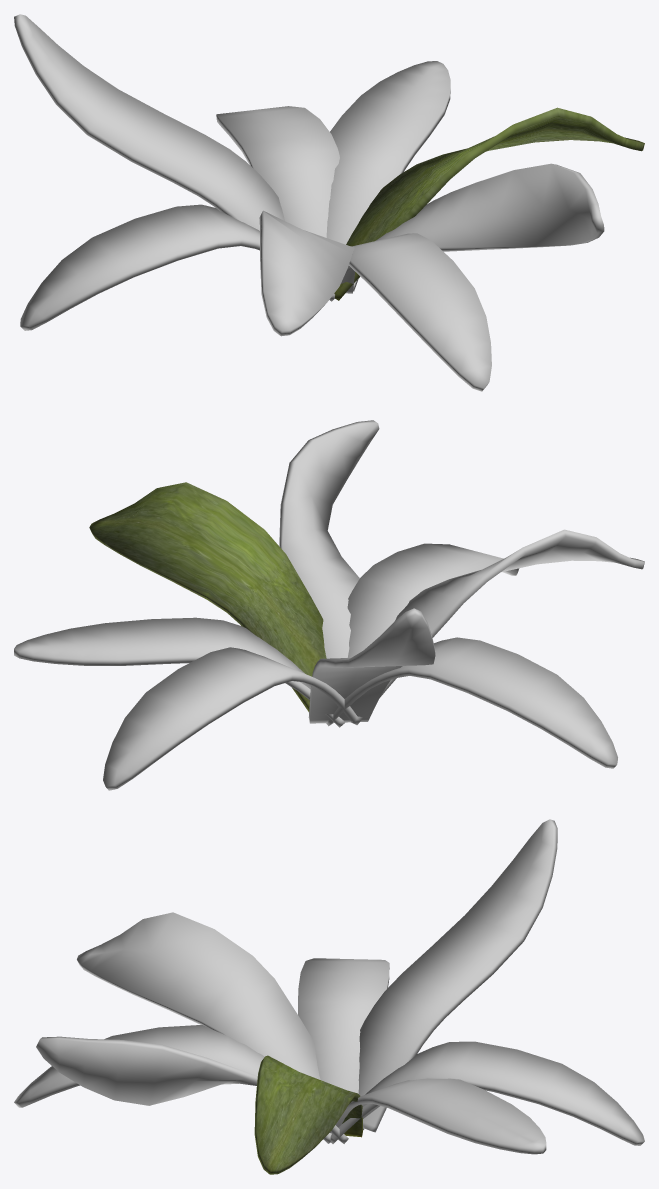
Rendered from calyx5_1000.dae.
The picture shows the model from 3 angles, top to bottom: view 1: azimuth 30°, elevation 25°; view 2: azimuth 150°, elevation 25°; view 3: azimuth 270°, elevation 25°; orthographic projection. The views are drawn at different scales.
Visible parts, largest first — view 1: calyx2, calyx5, calyx1, calyx3_001, calyx3, calyx3_002, calyx4_001, calyx4; view 2: calyx4_001, calyx3_002, calyx5, calyx3, calyx1, calyx3_001, calyx2, calyx4; view 3: calyx4, calyx2, calyx3_002, calyx5, calyx3, calyx4_001, calyx1, calyx3_001.
Boxes of the visible parts, x1=… form: calyx2: x1=14, y1=14, x2=284, y2=230; calyx5: x1=346, y1=163, x2=604, y2=272; calyx1: x1=326, y1=61, x2=450, y2=291; calyx3_001: x1=348, y1=233, x2=491, y2=391; calyx3: x1=20, y1=204, x2=334, y2=330; calyx3_002: x1=216, y1=106, x2=339, y2=237; calyx4_001: x1=334, y1=107, x2=644, y2=300; calyx4: x1=259, y1=210, x2=354, y2=336; calyx4_001: x1=89, y1=482, x2=326, y2=711; calyx3_002: x1=103, y1=647, x2=357, y2=790; calyx5: x1=279, y1=420, x2=379, y2=658; calyx3: x1=326, y1=637, x2=617, y2=768; calyx1: x1=14, y1=617, x2=344, y2=727; calyx3_001: x1=347, y1=543, x2=519, y2=657; calyx2: x1=308, y1=608, x2=435, y2=723; calyx4: x1=351, y1=529, x2=644, y2=724; calyx4: x1=77, y1=912, x2=320, y2=1079; calyx2: x1=358, y1=819, x2=557, y2=1132; calyx3_002: x1=330, y1=1041, x2=644, y2=1145; calyx5: x1=36, y1=1036, x2=348, y2=1143; calyx3: x1=298, y1=958, x2=389, y2=1130; calyx4_001: x1=254, y1=1055, x2=362, y2=1174; calyx1: x1=323, y1=1078, x2=546, y2=1154; calyx3_001: x1=14, y1=1025, x2=331, y2=1143.
Size of the model in its own units: 0.088 by 0.0874 by 0.0345.
